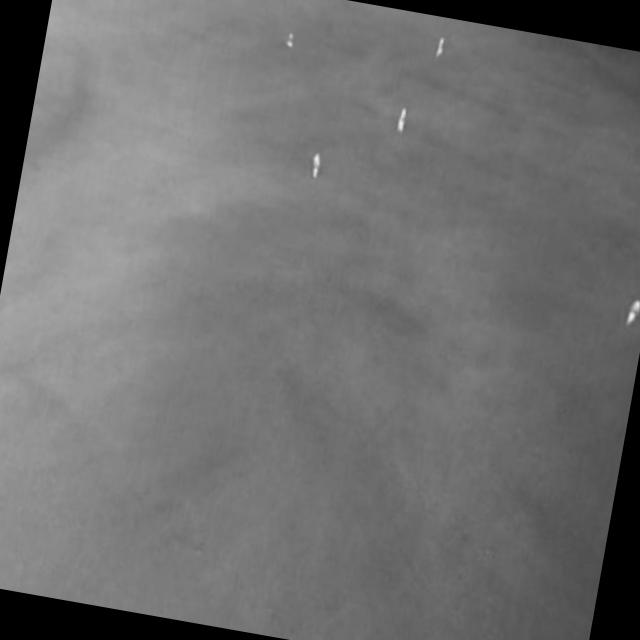person: (625, 295, 640, 328), (309, 152, 324, 181), (396, 108, 408, 134), (436, 37, 447, 59), (286, 32, 296, 48)
